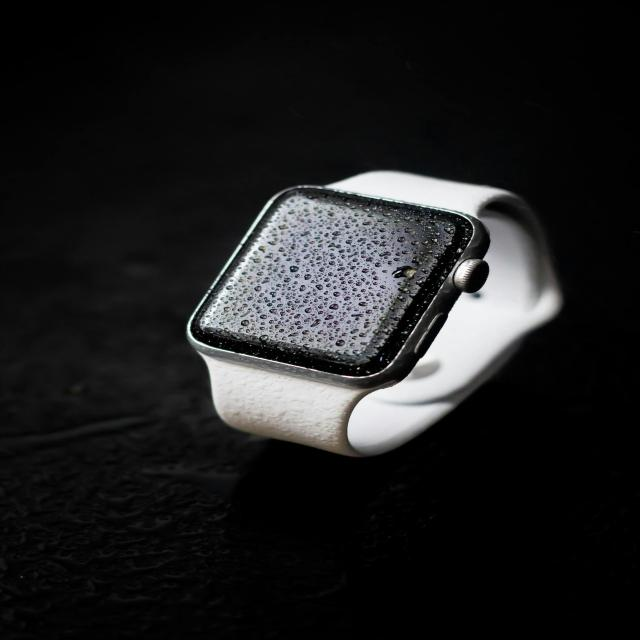relogio: (171, 164, 575, 459)
